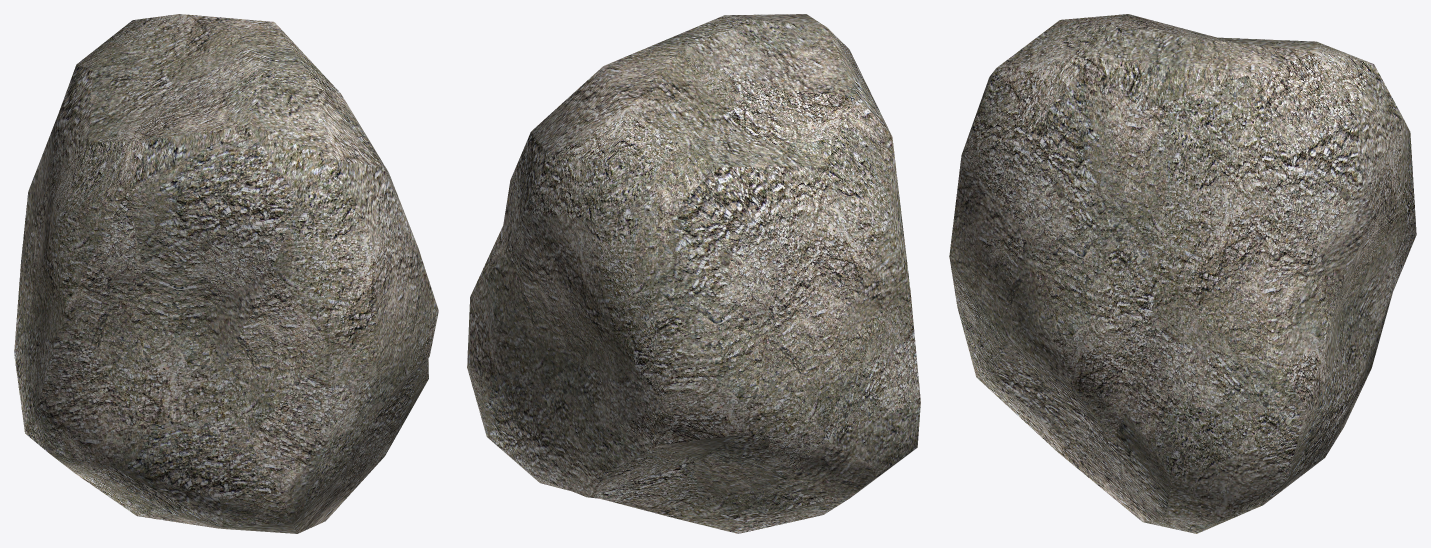
File: boulder_1.dae
3 renders of one model, left to right at view 1: azimuth 30°, elevation 25°; view 2: azimuth 150°, elevation 25°; view 3: azimuth 270°, elevation 25°, orthographic. The views are drawn at different scales.
Parts seen in each view (by area): view 1: bouldercubic128; view 2: bouldercubic128; view 3: bouldercubic128.
Part boxes in pixels (x1,y1,x2,y2): bouldercubic128: [14, 14, 438, 533]; bouldercubic128: [467, 14, 920, 533]; bouldercubic128: [949, 14, 1416, 533].
Bounding box in the file's own units: 1.93 × 2 × 2.2.
1 material, 1 textured.
